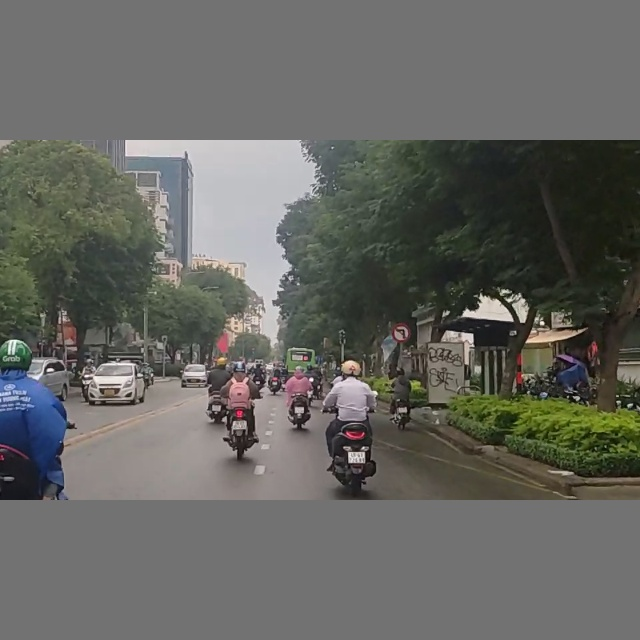P.123a: (392, 322, 412, 343)
